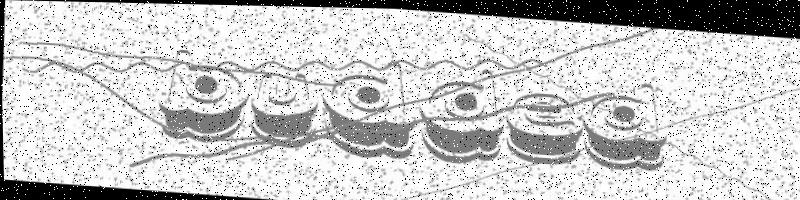b: (153, 46, 249, 145)
d: (316, 53, 419, 162), (413, 61, 508, 167), (578, 76, 672, 176)
e: (502, 87, 585, 168)
u: (246, 64, 321, 150)
